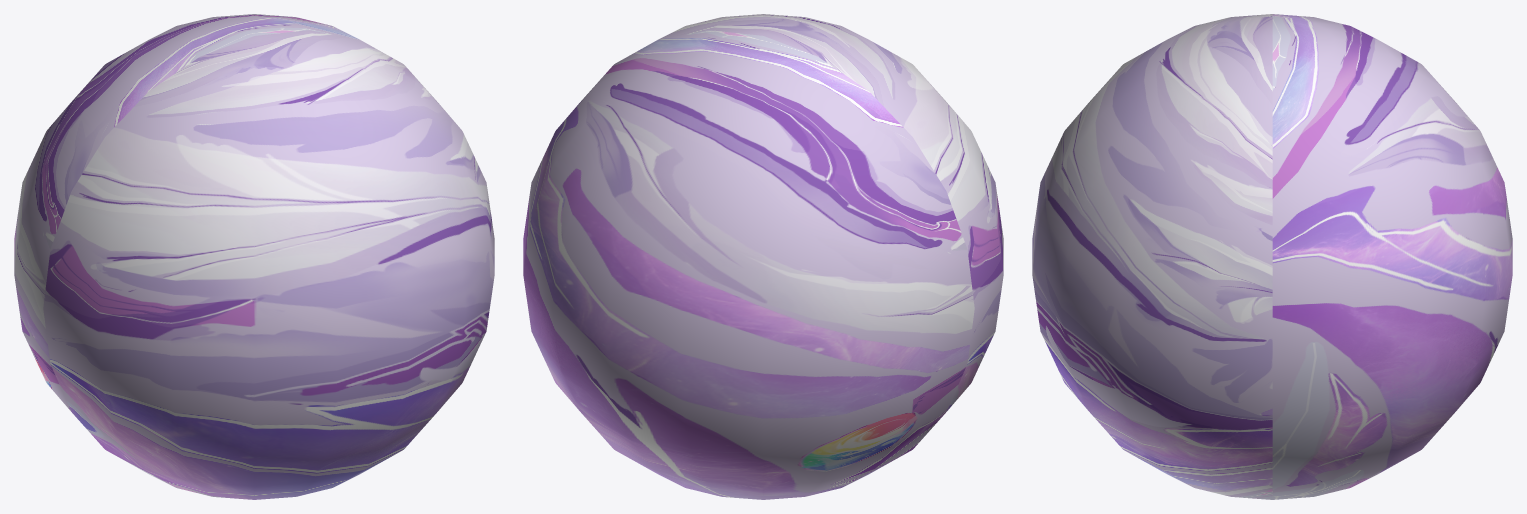
The model's file is Star.glb.
3 views of the same model, side by side, from view 1: azimuth 30°, elevation 25°; view 2: azimuth 150°, elevation 25°; view 3: azimuth 270°, elevation 25° (orthographic).
Visible parts, largest first — view 1: cyrene_00_idleshow_star_LOD0; view 2: cyrene_00_idleshow_star_LOD0; view 3: cyrene_00_idleshow_star_LOD0.
Boxes of the visible parts, x1,y1,x2,y2 form: cyrene_00_idleshow_star_LOD0: (14,14,494,499); cyrene_00_idleshow_star_LOD0: (523,14,1003,499); cyrene_00_idleshow_star_LOD0: (1032,14,1512,499).
Size of the model in its own units: 0.1376 by 0.1376 by 0.1355.
1 material, 1 textured.
